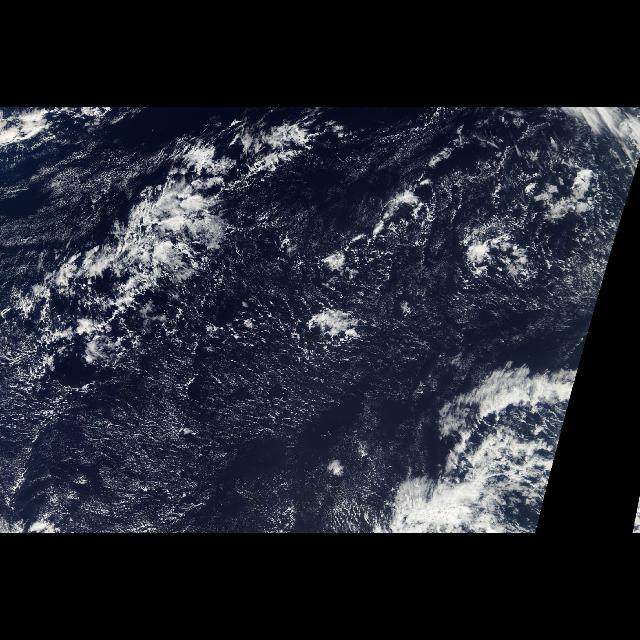Gravel: (434, 148, 628, 330)
Sugar: (68, 345, 386, 527)
